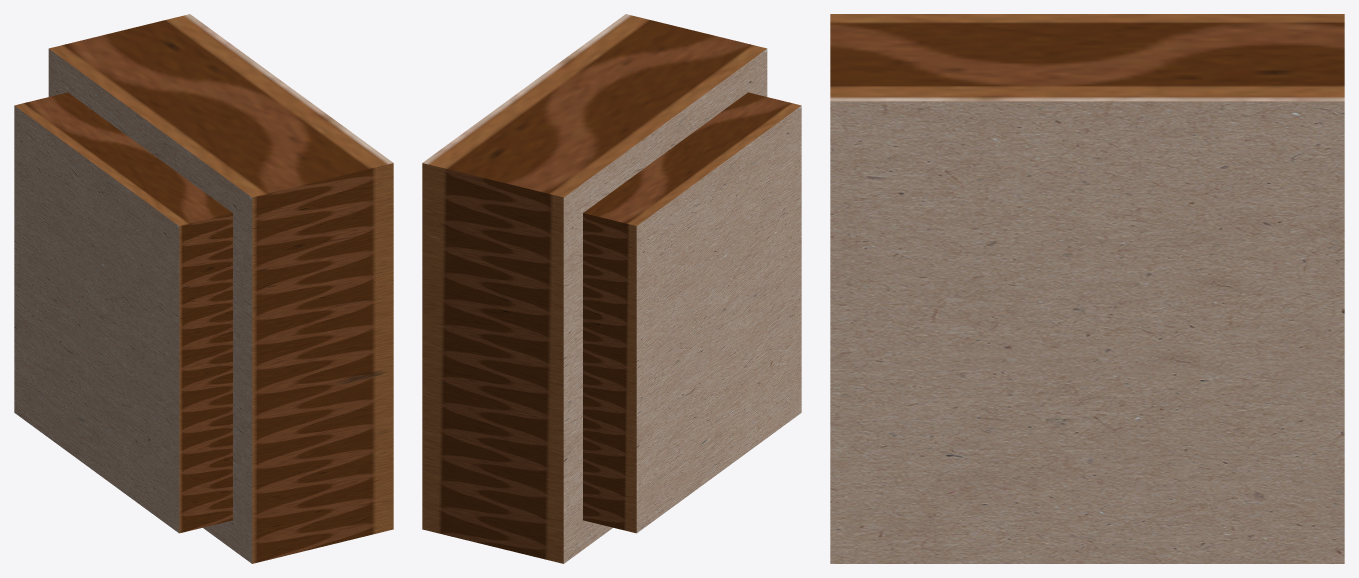
Rendered from switch.fbx.
The picture shows the model from 3 angles, left to right: view 1: azimuth 30°, elevation 25°; view 2: azimuth 150°, elevation 25°; view 3: azimuth 270°, elevation 25°; orthographic projection. The views are drawn at different scales.
Visible parts, largest first — view 1: Switch; view 2: Switch; view 3: Switch.
Boxes of the visible parts, left/top/right/bottom form: Switch: left=14, top=14, right=393, bottom=563; Switch: left=422, top=14, right=801, bottom=563; Switch: left=830, top=14, right=1344, bottom=563.
Size of the model in its own units: 0.4746 by 0.8518 by 0.8575.
